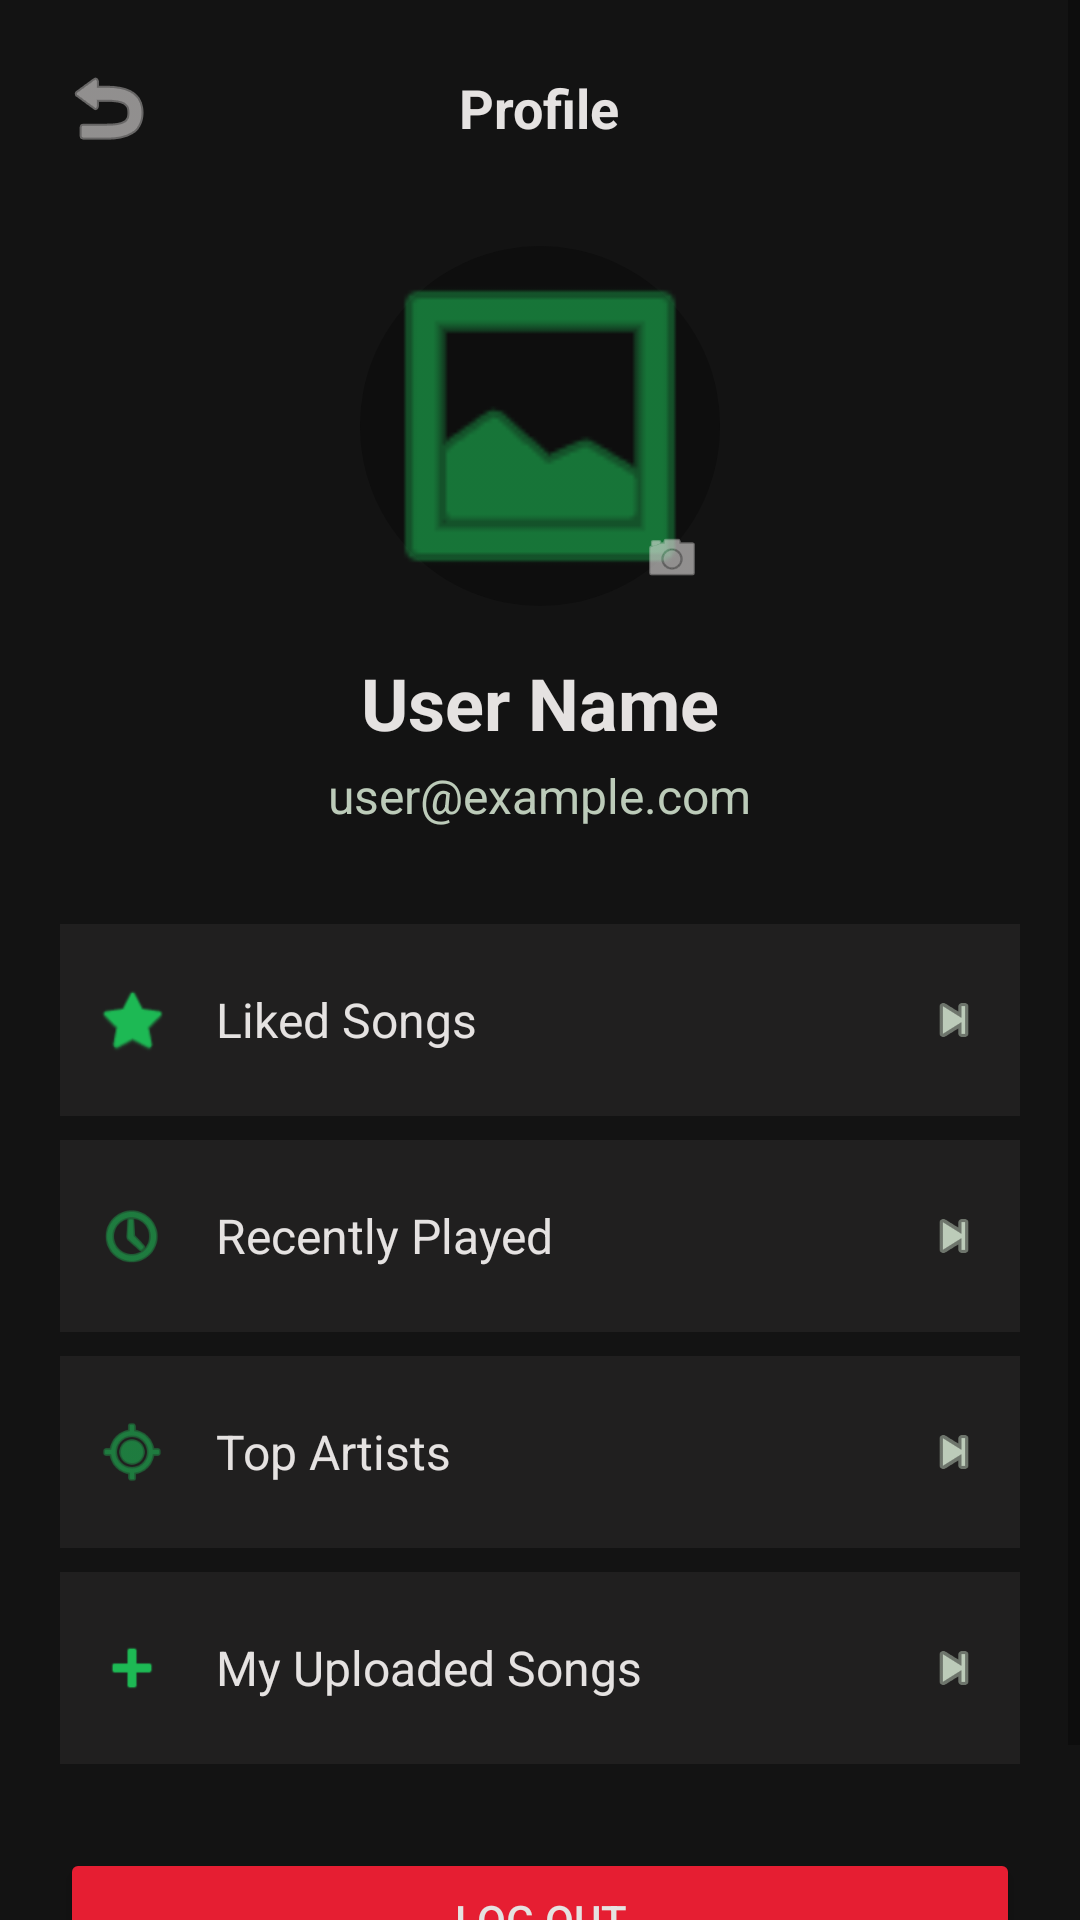

Named icons in this screenshot (1080x1920) and their bounding boxes, (x1, y1, x2, y2):
add: (112, 1648, 152, 1688)
Back: (75, 77, 144, 140)
mylocation: (103, 1423, 161, 1481)
next: (939, 1003, 969, 1037), (939, 1219, 969, 1253), (939, 1435, 969, 1469), (939, 1651, 969, 1685)
recent history: (106, 1210, 158, 1262)
star on: (103, 992, 163, 1049)
